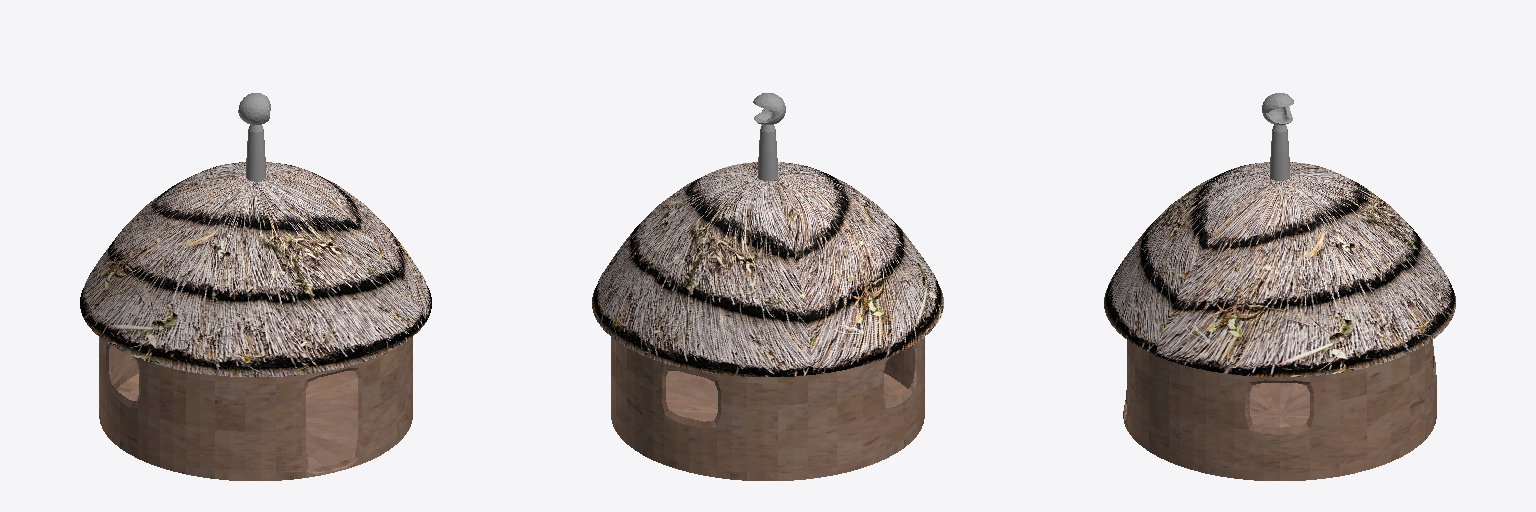
3 views of the same model, side by side, from view 1: azimuth 30°, elevation 25°; view 2: azimuth 150°, elevation 25°; view 3: azimuth 270°, elevation 25° (orthographic).
Parts seen in each view (by area): view 1: Circle, Circle.001; view 2: Circle, Circle.001; view 3: Circle, Circle.001.
Part boxes in pixels (x1,y1,x2,y2): Circle: (80, 162, 431, 480); Circle.001: (238, 93, 270, 180); Circle: (592, 162, 943, 480); Circle.001: (753, 93, 785, 180); Circle: (1104, 162, 1455, 480); Circle.001: (1262, 93, 1293, 180).
Size of the model in its own units: 6.85 by 6.93 by 6.85.
3 materials, 1 textured.